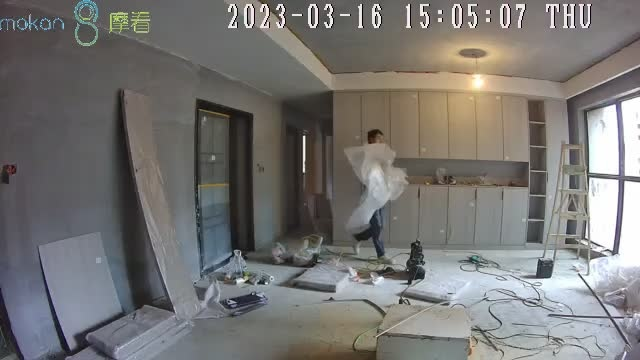people: (352, 129, 395, 264)
window: (583, 95, 640, 258)
